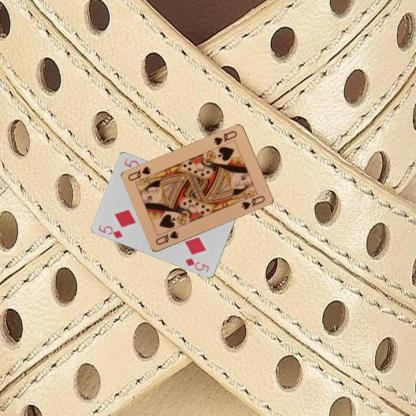5d: (96, 222, 124, 240)
Qs: (152, 228, 180, 247), (211, 128, 238, 147)
